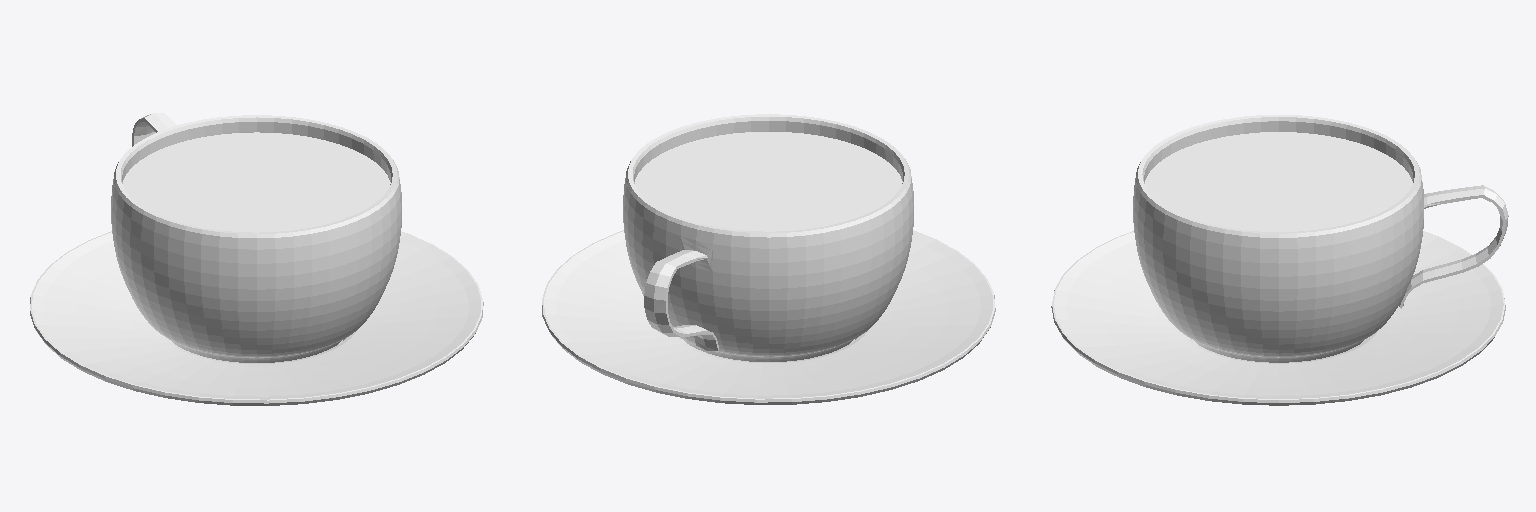
Rendered from Cup.obj.
3 renders of one model, left to right at view 1: azimuth 30°, elevation 25°; view 2: azimuth 150°, elevation 25°; view 3: azimuth 270°, elevation 25°, orthographic.
Visible parts, largest first — view 1: Cup_Geo, Saucer_Geo, Coffee_geo; view 2: Cup_Geo, Saucer_Geo, Coffee_geo; view 3: Cup_Geo, Saucer_Geo, Coffee_geo.
Part boxes in pixels (x1,y1,x2,y2): Cup_Geo: (111,113,401,362); Saucer_Geo: (30,231,483,405); Coffee_geo: (123,132,390,232); Cup_Geo: (623,114,913,361); Saucer_Geo: (542,230,995,404); Coffee_geo: (635,132,902,231); Cup_Geo: (1133,115,1508,362); Saucer_Geo: (1051,231,1505,405); Coffee_geo: (1145,132,1412,231).
Size of the model in its own units: 7.06 by 2.8 by 7.1.